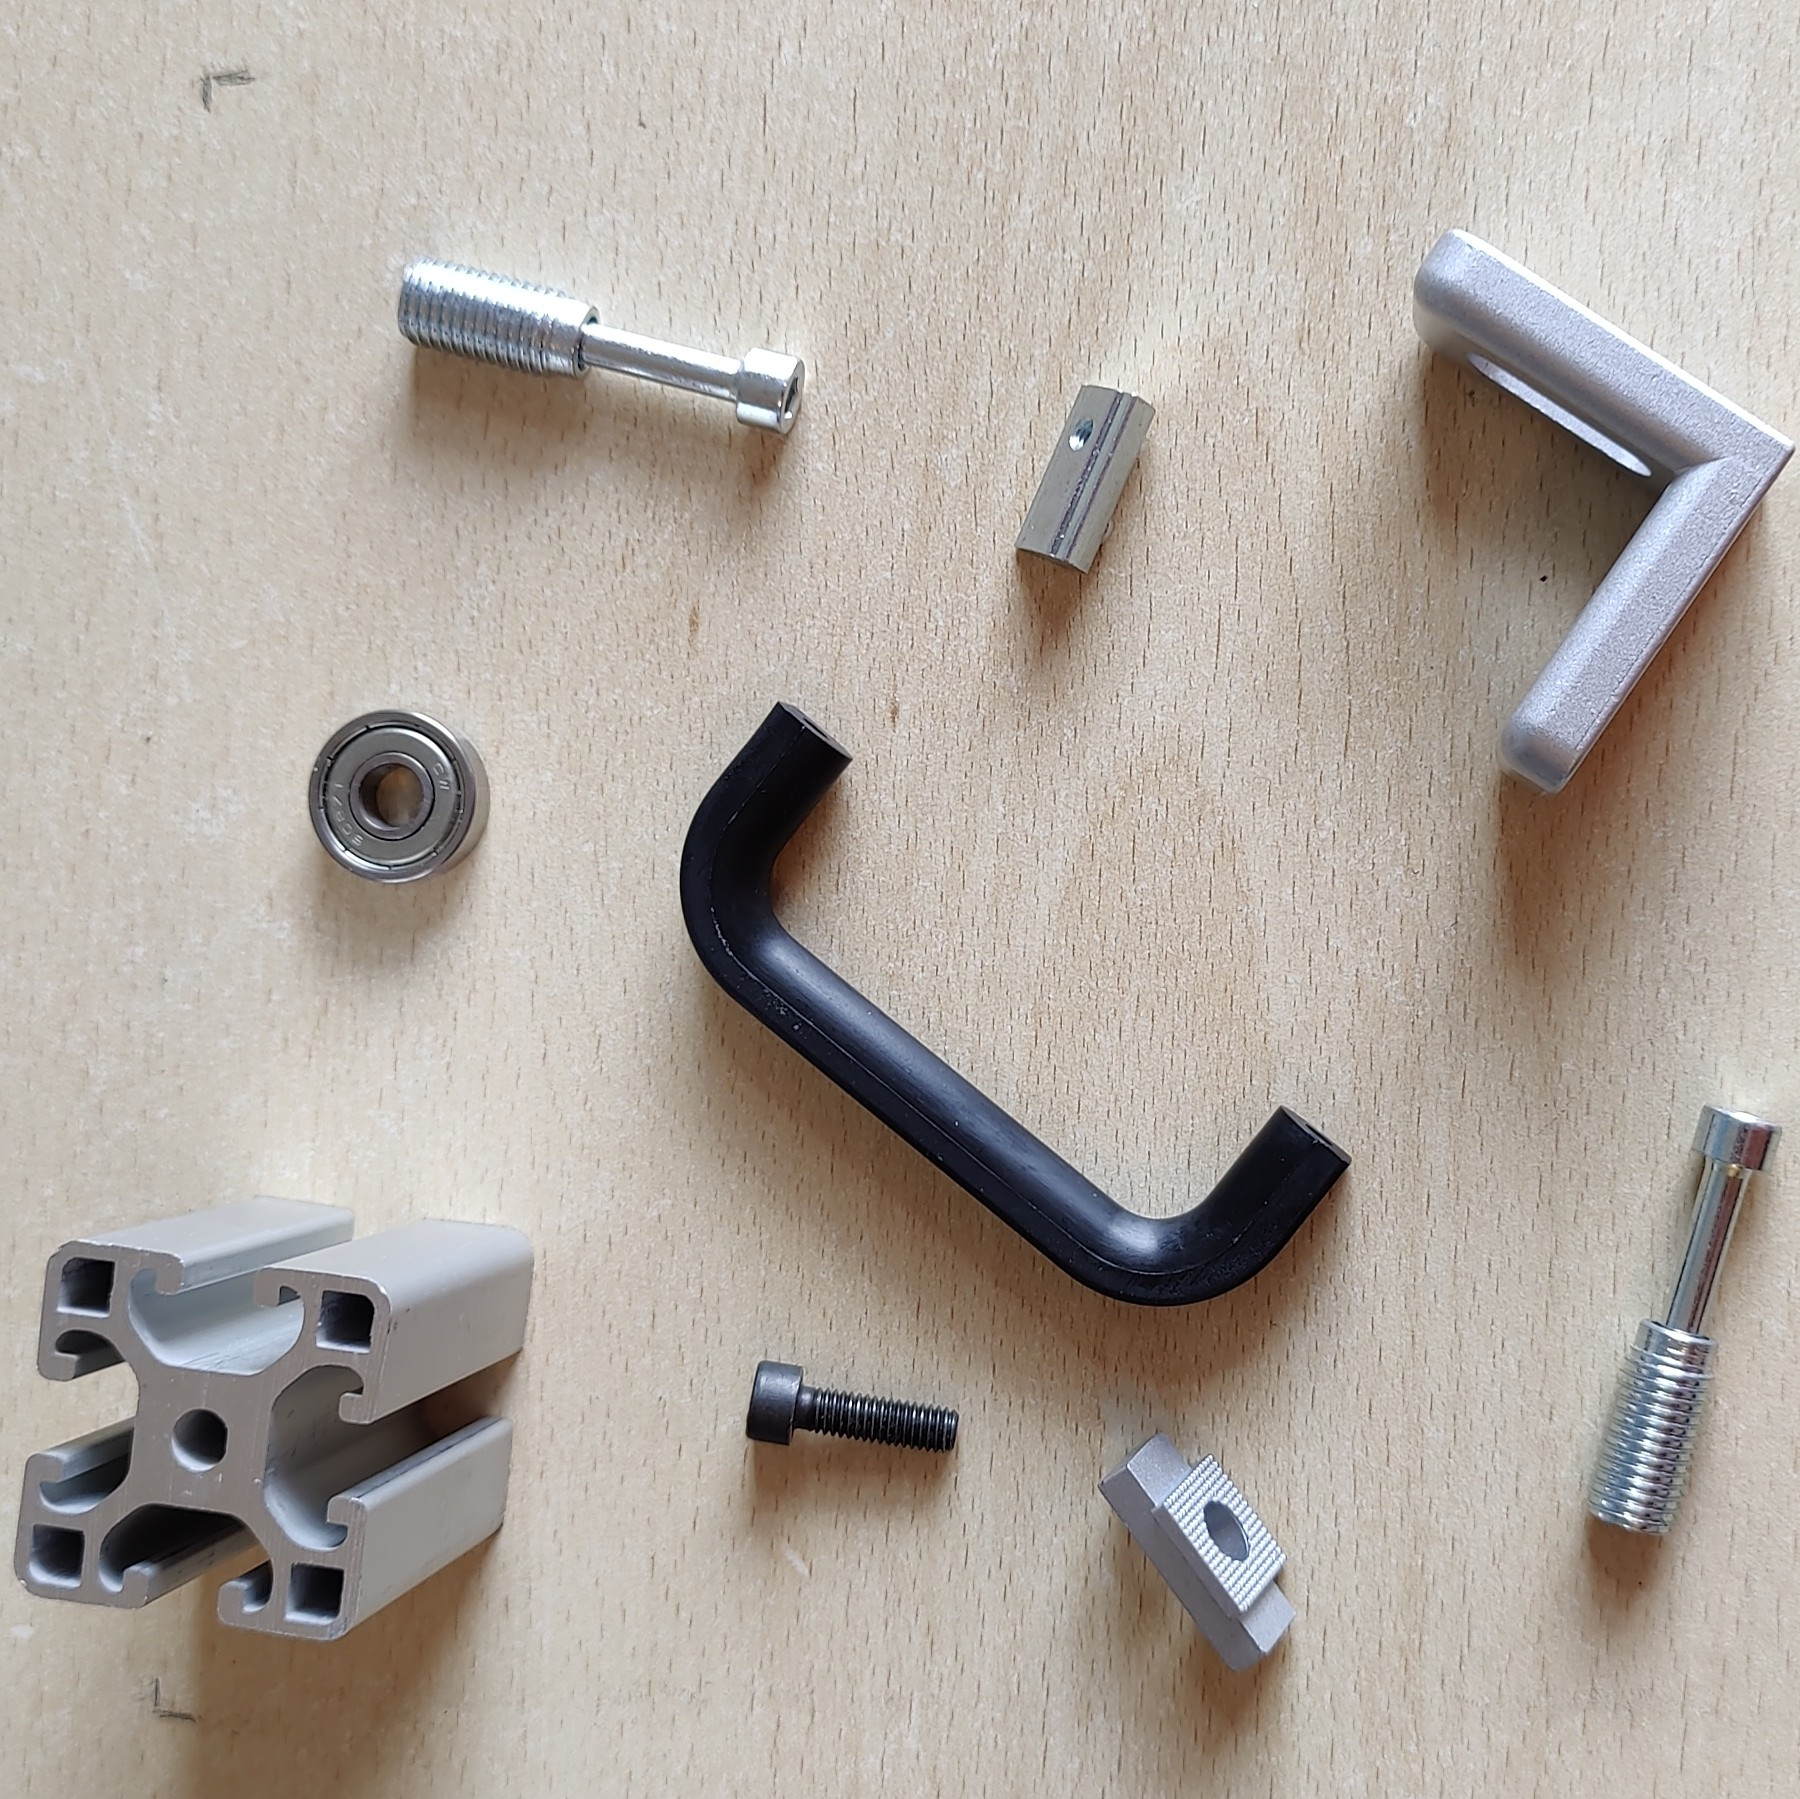Aluminium Extension: (12, 1194, 535, 1644)
Ball Bearing: (305, 707, 492, 885)
Multiwinkel: (1410, 229, 1798, 801)
Pull Handle: (677, 699, 1355, 1311)
Shoulder Socket Head Cap Screw: (1583, 1097, 1785, 1539), (394, 254, 809, 437)
Socket Head Cap Screw: (743, 1357, 963, 1455)
T Nut Square: (1097, 1428, 1298, 1677)
T Spring Nut: (1013, 381, 1159, 578)
